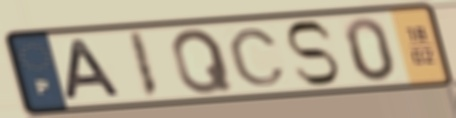0: (342, 14, 399, 85)
A: (64, 37, 126, 103)
C: (226, 26, 289, 89)
I: (125, 29, 162, 101)
Q: (169, 27, 236, 97)
S: (283, 18, 343, 88)
